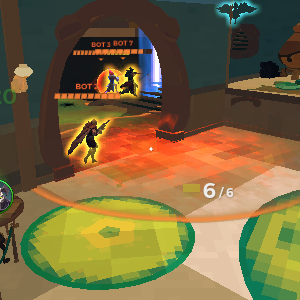model: (74, 114, 103, 166), (124, 62, 141, 98), (104, 67, 119, 97)
